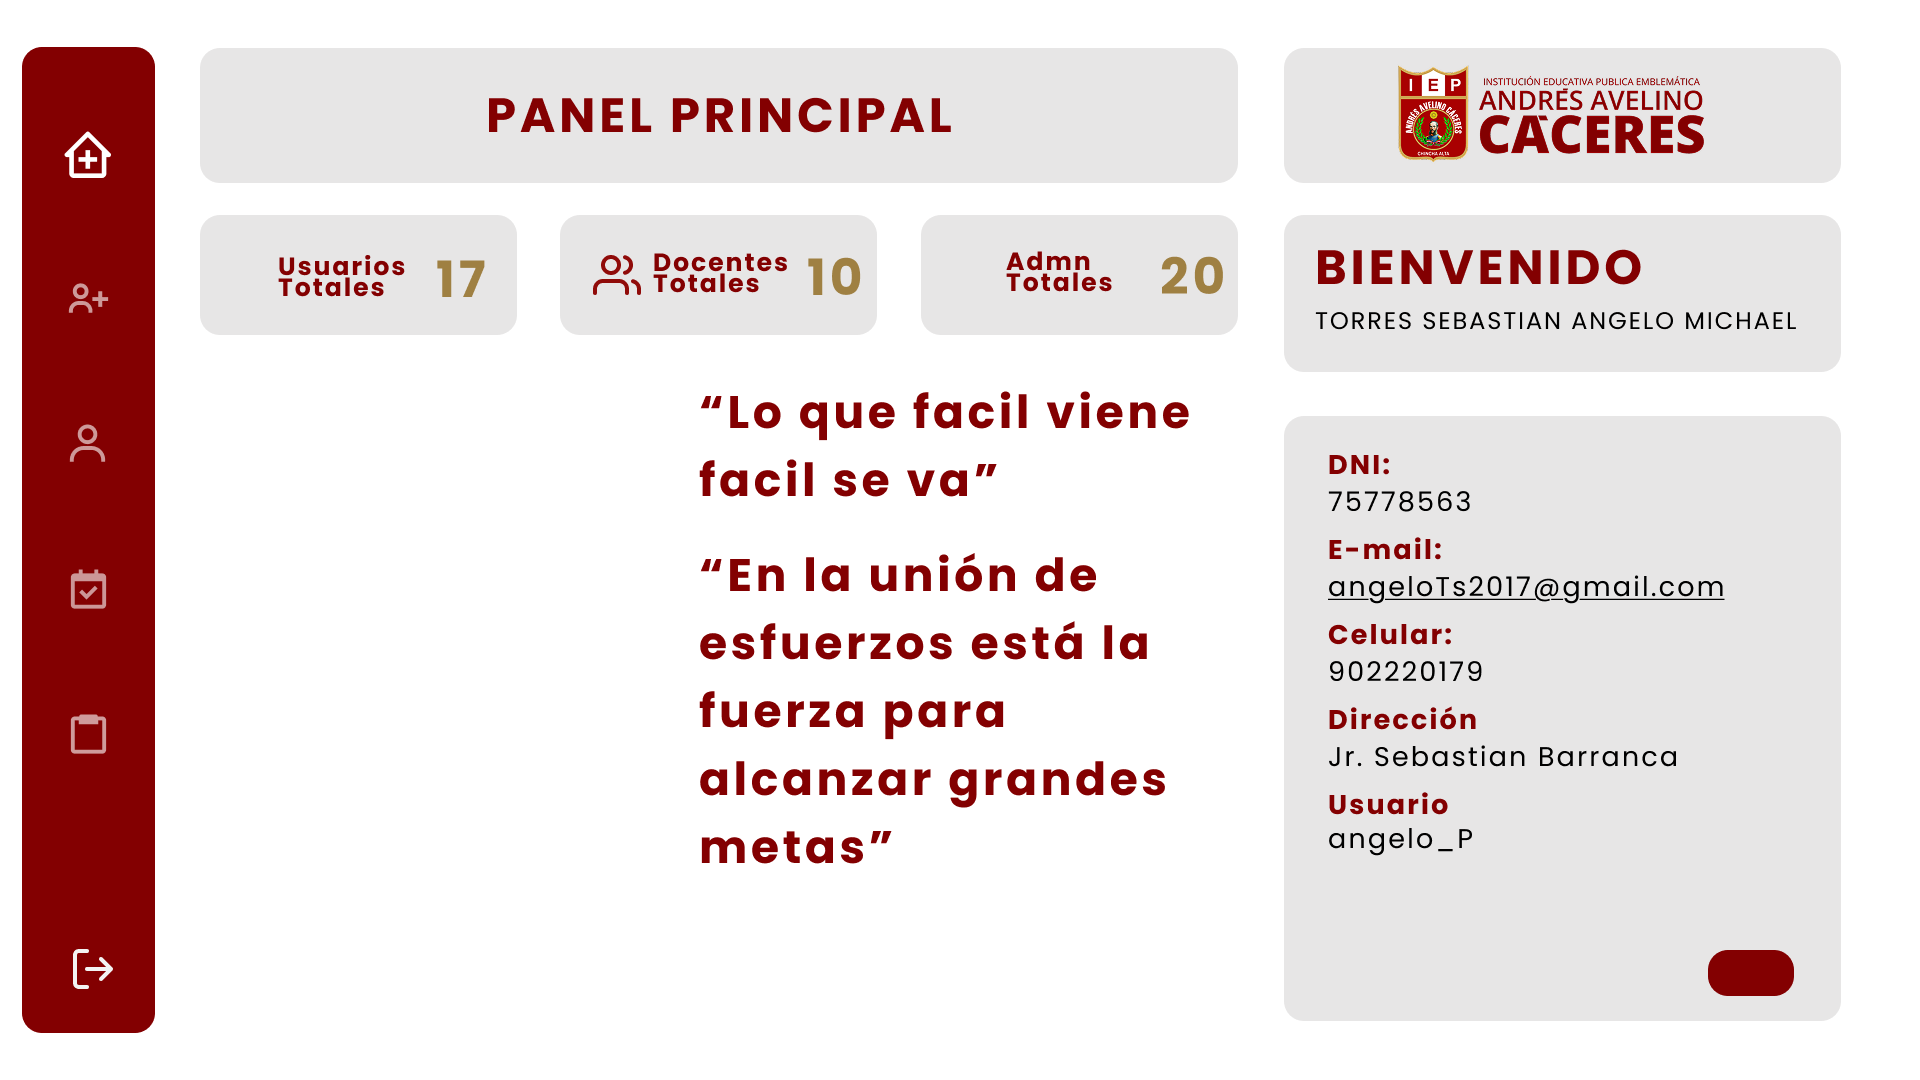

What the dashboard file says about the page in this screenshot:
{"tool":"powerbi","page":{"name":"Página 1","canvas":[1280,720],"ordinal":0},"visuals":[{"type":"shape","box":[144,96,1136,625],"z":0},{"type":"shape","box":[939.9,620.7,22.4,14.7],"z":0,"group":"g1"},{"type":"shape","box":[0,0,1280,95],"z":1000},{"type":"shape","box":[960.9,620.7,22.4,14.7],"z":1000,"group":"g1"},{"type":"textbox","box":[208,32,1072,160],"z":2000},{"type":"shape","box":[982,620.7,22.4,14.7],"z":2000,"group":"g1"},{"type":"shape","box":[0,96,144,624],"z":3000},{"type":"shape","box":[1003.1,620.7,22.4,14.7],"z":3000,"group":"g1"},{"type":"textbox","box":[40,128,128,64],"z":4000},{"type":"shape","box":[1024.2,620.7,22.4,14.7],"z":4000,"group":"g1"},{"type":"textbox","box":[40,192,128,64],"z":5000},{"type":"shape","box":[1045.3,620.7,22.4,14.7],"z":5000,"group":"g1"},{"type":"textbox","box":[40,256,128,64],"z":6000},{"type":"textbox","box":[898.2,628.7,232,56],"z":6000,"group":"g1"},{"type":"textbox","box":[40,320,128,64],"z":7000},{"type":"textbox","box":[40,384,128,64],"z":8000},{"type":"textbox","box":[40,448,128,64],"z":9000},{"type":"textbox","box":[40,512,128,64],"z":10000},{"type":"shape","box":[0,120,16,48],"z":11000},{"type":"slicer","fields":{"Values":["Fact_Siniestros_Region.Año"]},"box":[160,104,240,64],"z":12000},{"type":"slicer","fields":{"Values":["Fact_Siniestros_Region.DEPARTAMENTO"]},"box":[472,104,208,64],"z":13000},{"type":"slicer","fields":{"Values":["Fact_Siniestros_Tipo.Tipo_Siniestro"]},"box":[752,104,224,64],"z":14000},{"type":"slicer","fields":{"Values":["Fact_Victimas.Condicion"]},"box":[1056,104,208,64],"z":15000},{"type":"cardVisual","fields":{"Data":["Fact_Siniestros_Region.Total Fallecidos"]},"box":[432,176,256,96],"z":16000},{"type":"cardVisual","fields":{"Data":["Fact_Siniestros_Region.Total Siniestros"]},"box":[160,176,264,96],"z":17000},{"type":"cardVisual","fields":{"Data":["Fact_Siniestros_Region.Total Heridos"]},"box":[704,176,272,96],"z":18000},{"type":"cardVisual","fields":{"Data":["Fact_Siniestros_Region.Regiones Reportadas"]},"box":[1008,176,272,96],"z":19000},{"type":"lineChart","title":"       Evolución anual de siniestros","fields":{"Category":["Fact_Siniestros_Region.Año"],"Y":["Sum(Fact_Siniestros_Region.Total_Siniestros)"]},"box":[160,280,432,176],"z":20000},{"type":"azureMap","title":"Distribución geográfica de siniestros","fields":{"Category":["Fact_Siniestros_Region.Ubicacion_Mapa"],"Size":["Fact_Siniestros_Region.Total Siniestros"]},"box":[608,280,288,208],"z":21000},{"type":"clusteredBarChart","title":"Top departamentos con más siniestros","fields":{"Category":["Fact_Siniestros_Region.Departamento"],"Y":["Fact_Siniestros_Region.Total Siniestros"]},"box":[912,280,352,208],"z":22000},{"type":"donutChart","title":"Tipo de siniestro","fields":{"Category":["Fact_Siniestros_Tipo.Tipo_Siniestro"],"Y":["Sum(Fact_Siniestros_Tipo.Cantidad)"]},"box":[160,464,304,224],"z":23000},{"type":"pivotTable","title":"Comparativo mensual de siniestros 2023-2025","fields":{"Rows":["Fact_Siniestros_Mensual.Año"],"Values":["Sum(Fact_Siniestros_Mensual.Siniestros)"],"Columns":["Dim_Meses.Mes_Corto"]},"box":[786.2,492.7,480,176],"z":24000},{"type":"columnChart","title":"Fallecidos y heridos por año","fields":{"Category":["Fact_Victimas.Año"],"Series":["Fact_Victimas.Condicion"],"Y":["Sum(Fact_Victimas.Cantidad)"]},"box":[472,496,304,192],"z":25000},{"type":"group","id":"g1","title":"Grupo 1","box":[898.2,620.7,232,64],"z":26000},{"type":"shape","box":[176,16,16,64],"z":27000},{"type":"image","box":[192,280,32,32],"z":28000},{"type":"image","box":[320,112,96,48],"z":29000},{"type":"image","box":[832,280,48,48],"z":30000},{"type":"image","box":[624,112,64,48],"z":31000},{"type":"image","box":[800,8,480,88],"z":32000},{"type":"image","box":[912,104,53,61],"z":33000},{"type":"image","box":[1208,112,48,56],"z":34000},{"type":"image","box":[728,480,48,64],"z":35000},{"type":"image","box":[912,272,32,48],"z":36000},{"type":"image","box":[8,152,32,112],"z":37000},{"type":"image","box":[0,416,40,96],"z":38000},{"type":"image","box":[0,496,40,64],"z":39000},{"type":"image","box":[0,248,45,45],"z":40000},{"type":"image","box":[8,128,32,32],"z":41000},{"type":"image","box":[0,352,42,85],"z":42000},{"type":"image","box":[8,304,40,56],"z":43000},{"type":"image","box":[272,456,72,40],"z":44000},{"type":"textbox","box":[208,8,1071,144],"z":45000},{"type":"image","box":[0,16,192,64],"z":46000}]}

Visuals, with their boxes in screenshot pixels (x1, y1, x2, y2), scaled from the page's 1280x720 canvas onto the 1920x1080 screenshot:
shape: Rect(216, 144, 1919, 1079)
shape: Rect(1410, 931, 1443, 953)
shape: Rect(0, 0, 1919, 142)
shape: Rect(1441, 931, 1475, 953)
textbox: Rect(312, 48, 1919, 288)
shape: Rect(1473, 931, 1507, 953)
shape: Rect(0, 144, 216, 1079)
shape: Rect(1505, 931, 1538, 953)
textbox: Rect(60, 192, 252, 288)
shape: Rect(1536, 931, 1570, 953)
textbox: Rect(60, 288, 252, 384)
shape: Rect(1568, 931, 1602, 953)
textbox: Rect(60, 384, 252, 480)
textbox: Rect(1347, 943, 1695, 1027)
textbox: Rect(60, 480, 252, 576)
textbox: Rect(60, 576, 252, 672)
textbox: Rect(60, 672, 252, 768)
textbox: Rect(60, 768, 252, 864)
shape: Rect(0, 180, 24, 252)
slicer - Fact_Siniestros_Region.Año: Rect(240, 156, 600, 252)
slicer - Fact_Siniestros_Region.DEPARTAMENTO: Rect(708, 156, 1020, 252)
slicer - Fact_Siniestros_Tipo.Tipo_Siniestro: Rect(1128, 156, 1464, 252)
slicer - Fact_Victimas.Condicion: Rect(1584, 156, 1896, 252)
cardVisual - Fact_Siniestros_Region.Total Fallecidos: Rect(648, 264, 1032, 408)
cardVisual - Fact_Siniestros_Region.Total Siniestros: Rect(240, 264, 636, 408)
cardVisual - Fact_Siniestros_Region.Total Heridos: Rect(1056, 264, 1464, 408)
cardVisual - Fact_Siniestros_Region.Regiones Reportadas: Rect(1512, 264, 1919, 408)
"       Evolución anual de siniestros" lineChart: Rect(240, 420, 888, 684)
"Distribución geográfica de siniestros" azureMap: Rect(912, 420, 1344, 732)
"Top departamentos con más siniestros" clusteredBarChart: Rect(1368, 420, 1896, 732)
"Tipo de siniestro" donutChart: Rect(240, 696, 696, 1032)
"Comparativo mensual de siniestros 2023-2025" pivotTable: Rect(1179, 739, 1899, 1003)
"Fallecidos y heridos por año" columnChart: Rect(708, 744, 1164, 1032)
"Grupo 1" group: Rect(1347, 931, 1695, 1027)
shape: Rect(264, 24, 288, 120)
image: Rect(288, 420, 336, 468)
image: Rect(480, 168, 624, 240)
image: Rect(1248, 420, 1320, 492)
image: Rect(936, 168, 1032, 240)
image: Rect(1200, 12, 1919, 144)
image: Rect(1368, 156, 1448, 248)
image: Rect(1812, 168, 1884, 252)
image: Rect(1092, 720, 1164, 816)
image: Rect(1368, 408, 1416, 480)
image: Rect(12, 228, 60, 396)
image: Rect(0, 624, 60, 768)
image: Rect(0, 744, 60, 840)
image: Rect(0, 372, 68, 440)
image: Rect(12, 192, 60, 240)
image: Rect(0, 528, 63, 656)
image: Rect(12, 456, 72, 540)
image: Rect(408, 684, 516, 744)
textbox: Rect(312, 12, 1918, 228)
image: Rect(0, 24, 288, 120)
